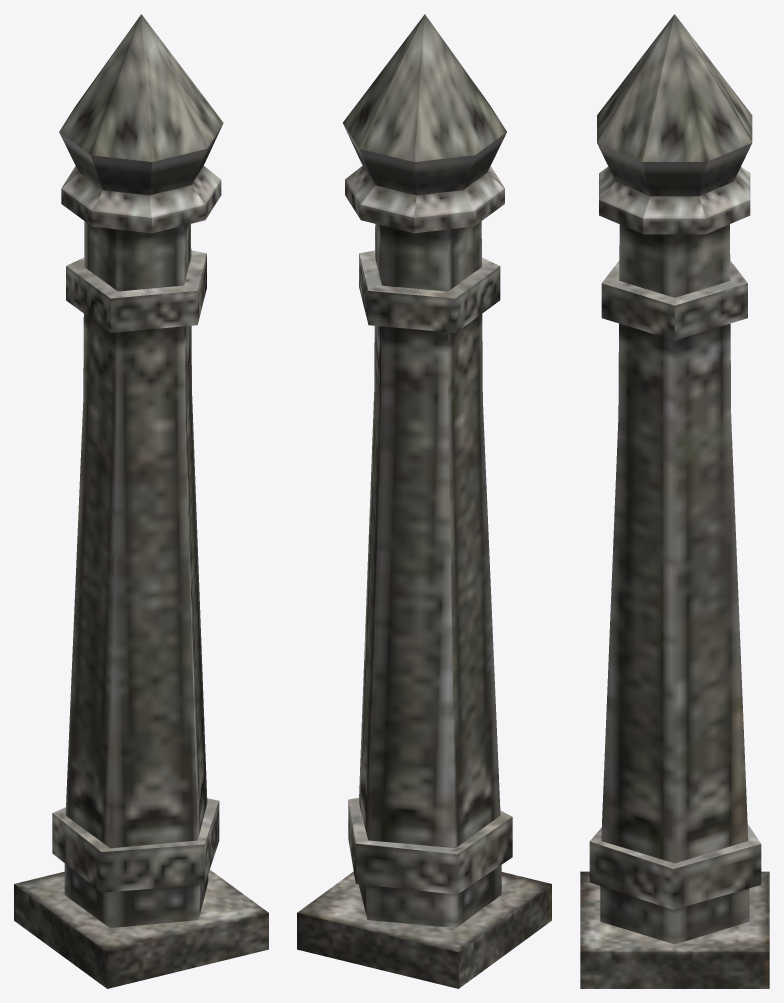
The model's file is general_obj_stonepillar_01.glb.
3 views of the same model, side by side, from view 1: azimuth 30°, elevation 25°; view 2: azimuth 150°, elevation 25°; view 3: azimuth 270°, elevation 25° (orthographic).
Parts seen in each view (by area): view 1: Object12; view 2: Object12; view 3: Object12.
Part boxes in pixels (x1,y1,x2,y2): Object12: [14, 14, 268, 988]; Object12: [297, 14, 551, 988]; Object12: [580, 14, 769, 988].
Size of the model in its own units: 0.9043 by 4.93 by 0.9043.
1 material, 1 textured.
